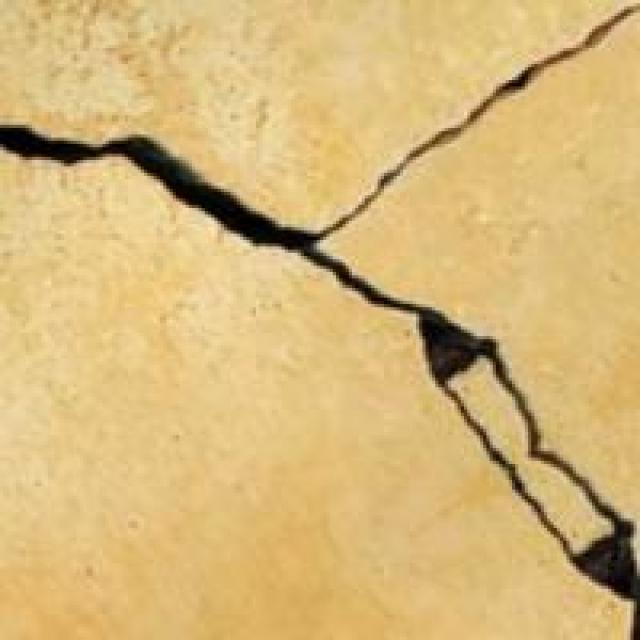crack: (0, 3, 637, 637)
